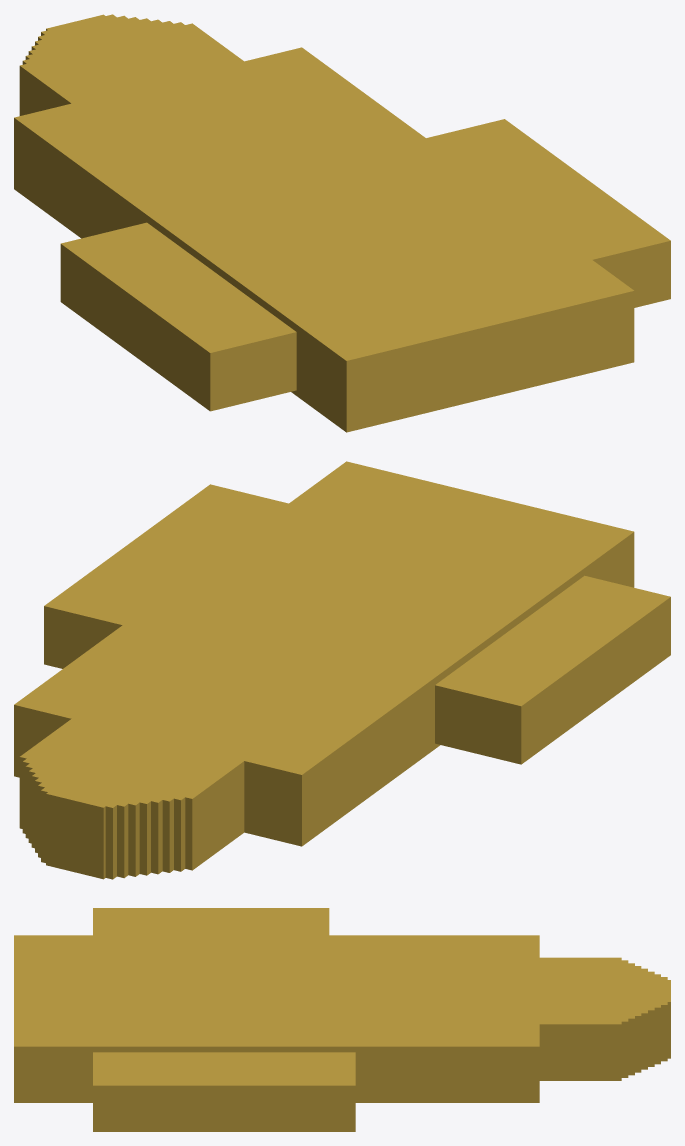
The model's file is ind.m.mule-r3.glb.
3 renders of one model, top to bottom at view 1: azimuth 30°, elevation 25°; view 2: azimuth 150°, elevation 25°; view 3: azimuth 270°, elevation 25°, orthographic. The views are drawn at different scales.
Visible parts, largest first — view 1: ReviewedAuthoredCelestial; view 2: ReviewedAuthoredCelestial; view 3: ReviewedAuthoredCelestial.
Boxes of the visible parts, <box> form: ReviewedAuthoredCelestial: <box>14,14,670,432</box>; ReviewedAuthoredCelestial: <box>14,461,670,879</box>; ReviewedAuthoredCelestial: <box>14,908,670,1131</box>.
Bounding box in the file's own units: 16 × 2.38 × 25.
